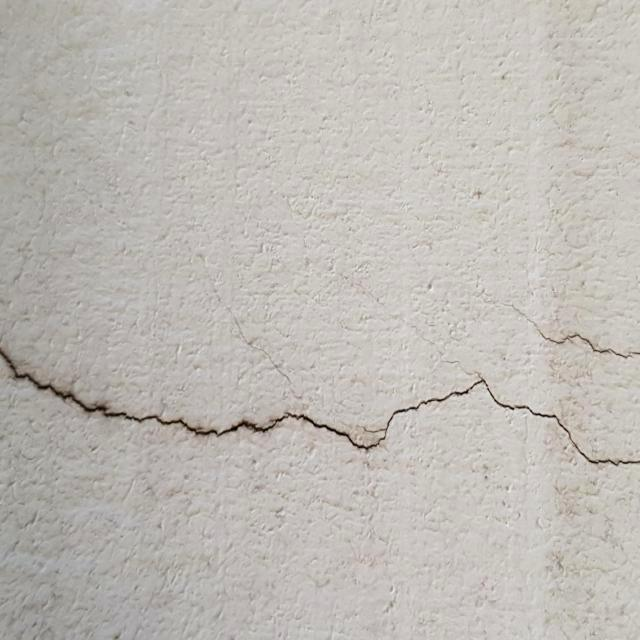SurfaceCrack: (0, 298, 639, 475)
